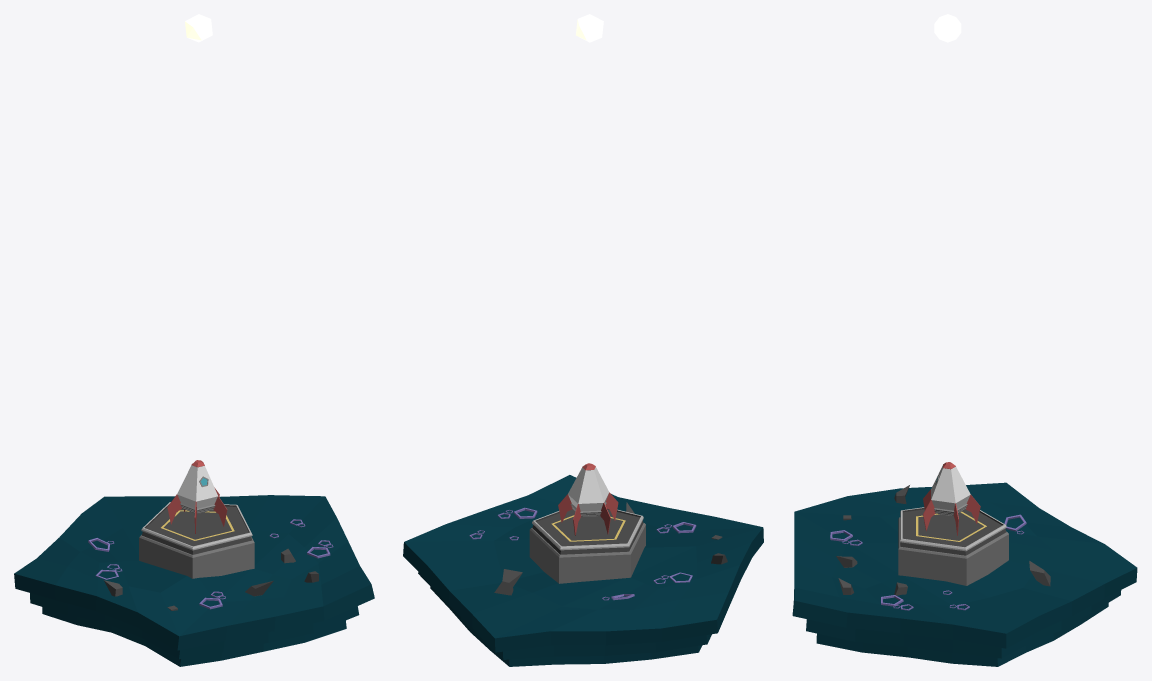
The model's file is rocket_scene_2.glb.
The picture shows the model from 3 angles, left to right: view 1: azimuth 30°, elevation 25°; view 2: azimuth 150°, elevation 25°; view 3: azimuth 270°, elevation 25°; orthographic projection.
Parts seen in each view (by area): view 1: ground, Launchpad, rocket, smokeParticle; view 2: ground, Launchpad, rocket, smokeParticle; view 3: ground, Launchpad, rocket, smokeParticle.
Boxes of the visible parts, x1,y1,x2,y2 form: ground: (14, 495, 374, 666); Launchpad: (139, 502, 254, 578); rocket: (167, 460, 227, 533); smokeParticle: (185, 14, 212, 42); ground: (403, 475, 763, 666); Launchpad: (529, 509, 645, 583); rocket: (558, 463, 618, 535); smokeParticle: (576, 14, 603, 42); ground: (792, 482, 1137, 666); Launchpad: (898, 507, 1008, 585); rocket: (923, 462, 980, 535); smokeParticle: (934, 14, 961, 42).
Bounding box in the file's own units: 22.9 × 41.84 × 21.83.
